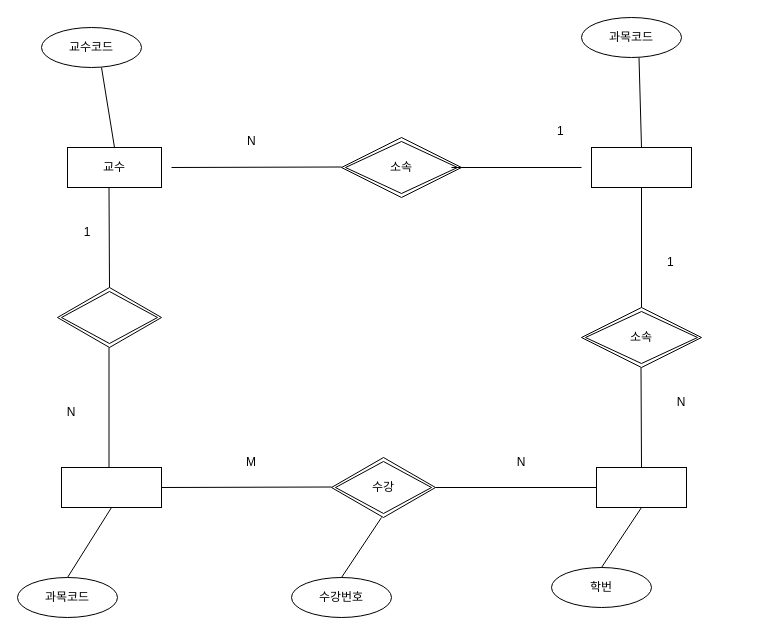
This 759x635 diagram has some shape labels left out. The box of each missing label's shape, as (x1, y1, x2, y2) in pixels:
강의: (56, 286, 162, 348)
과목: (60, 466, 162, 508)
학과: (590, 146, 692, 188)
학생: (596, 466, 686, 508)
